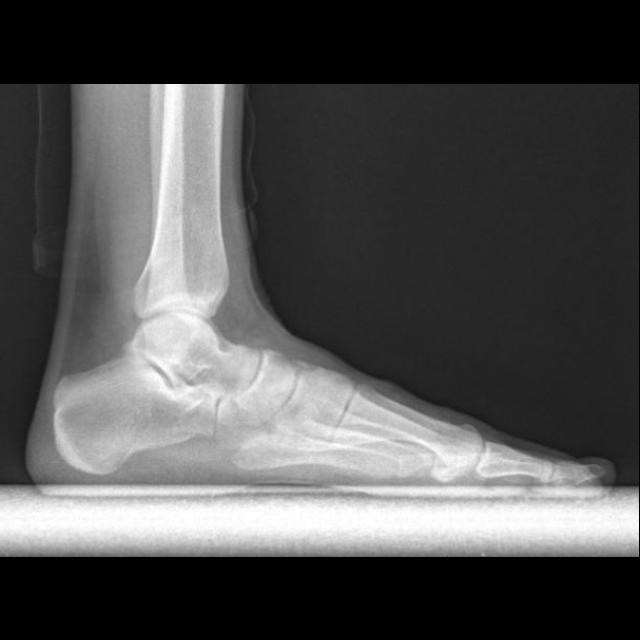a: (54, 358, 216, 473)
b: (231, 353, 299, 423)
c: (332, 378, 482, 485)
